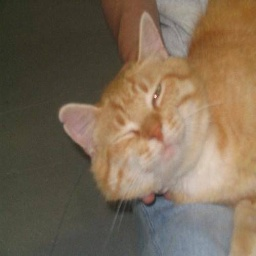cat: (55, 0, 256, 213)
